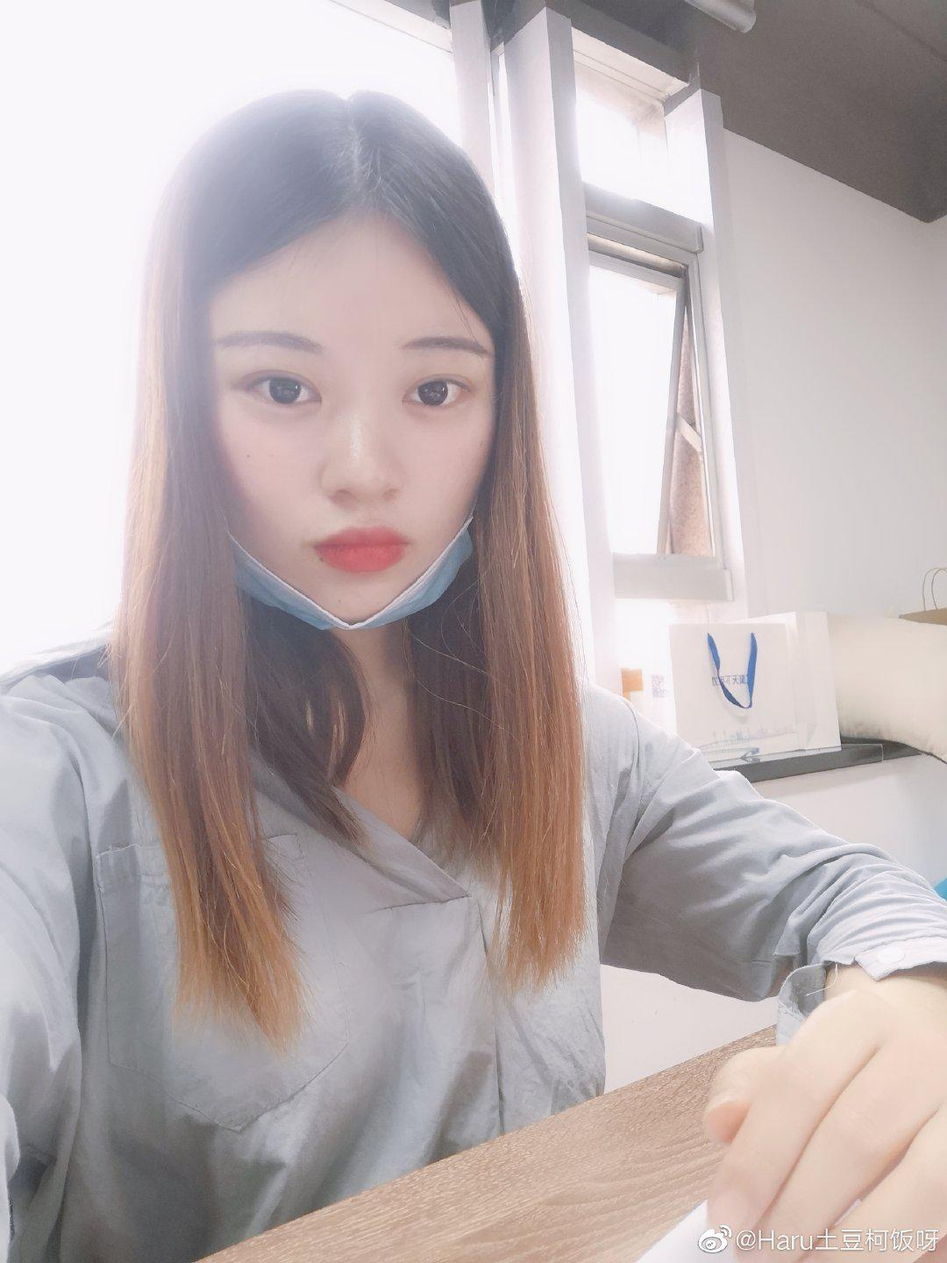WRONG: (197, 290, 497, 630)
